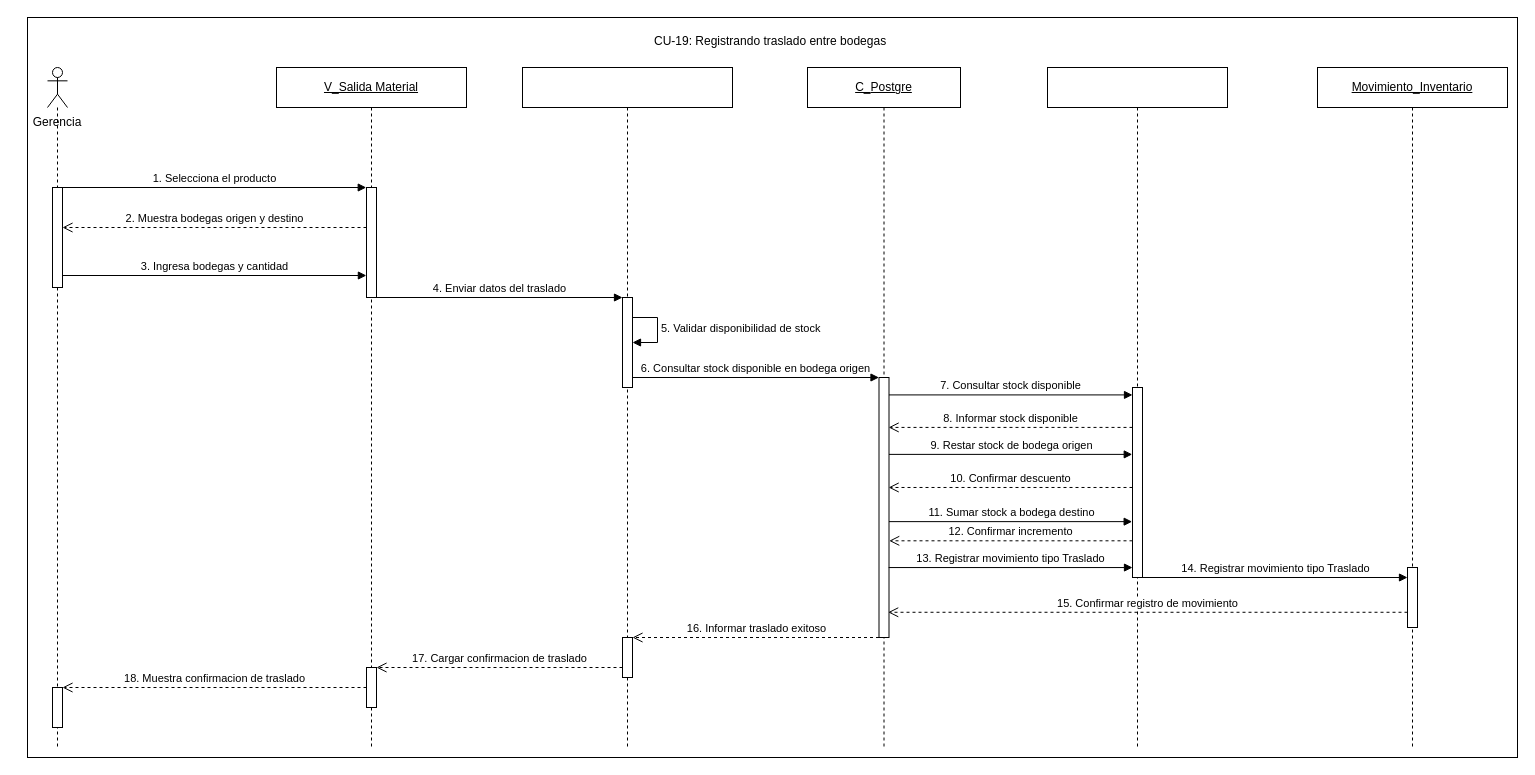
The diagram is 1535 pixels wide and 775 high, and some of its shapes have lost their labels. The shapes that lost their labels are listed below. From the top down, each one's centre as x and y in pixels, then its label:
point 627,407: C_bodegas
point 1137,407: Inventario_Bodega
